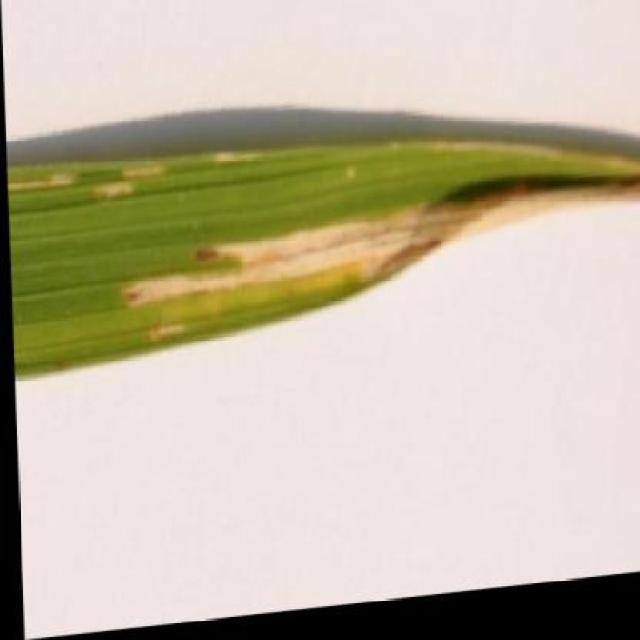Brown_Spot: (4, 103, 640, 381)
